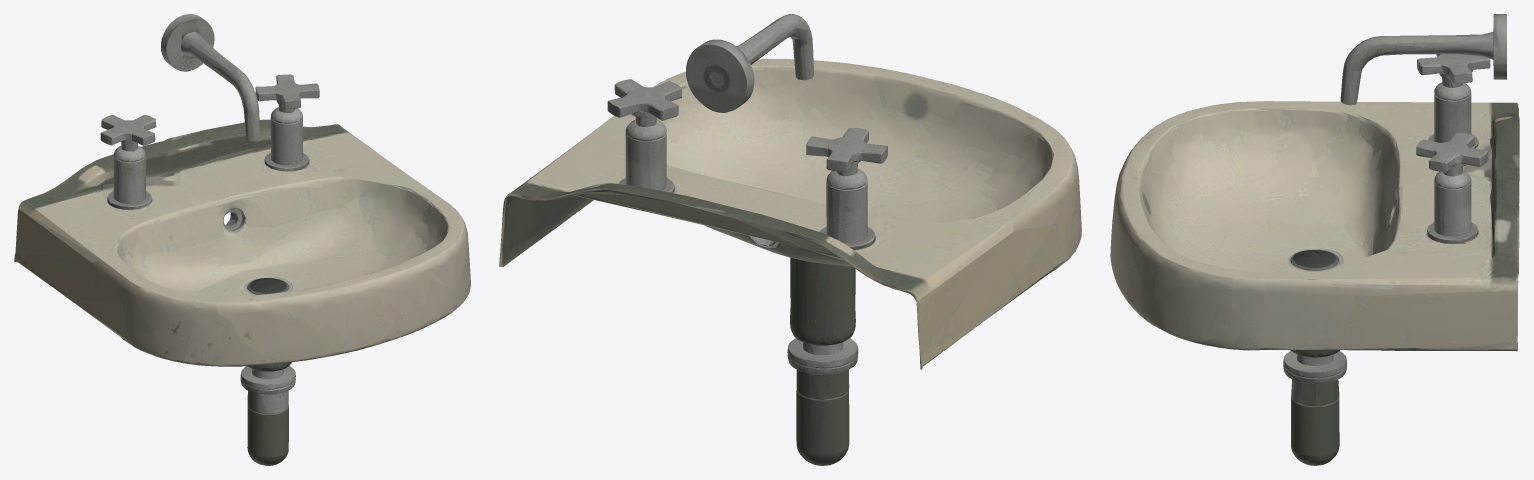
The model's file is lavandino_A.glb.
3 renders of one model, left to right at view 1: azimuth 30°, elevation 25°; view 2: azimuth 150°, elevation 25°; view 3: azimuth 270°, elevation 25°, orthographic. The views are drawn at different scales.
Parts seen in each view (by area): view 1: Mesh_0; view 2: Mesh_0; view 3: Mesh_0.
Part boxes in pixels (<box>): Mesh_0: <box>14,14,470,465</box>; Mesh_0: <box>499,14,1081,465</box>; Mesh_0: <box>1110,14,1519,465</box>.
Size of the model in its own units: 0.55 by 0.6151 by 0.5116.
Materials: 1 (1 with a texture image).
